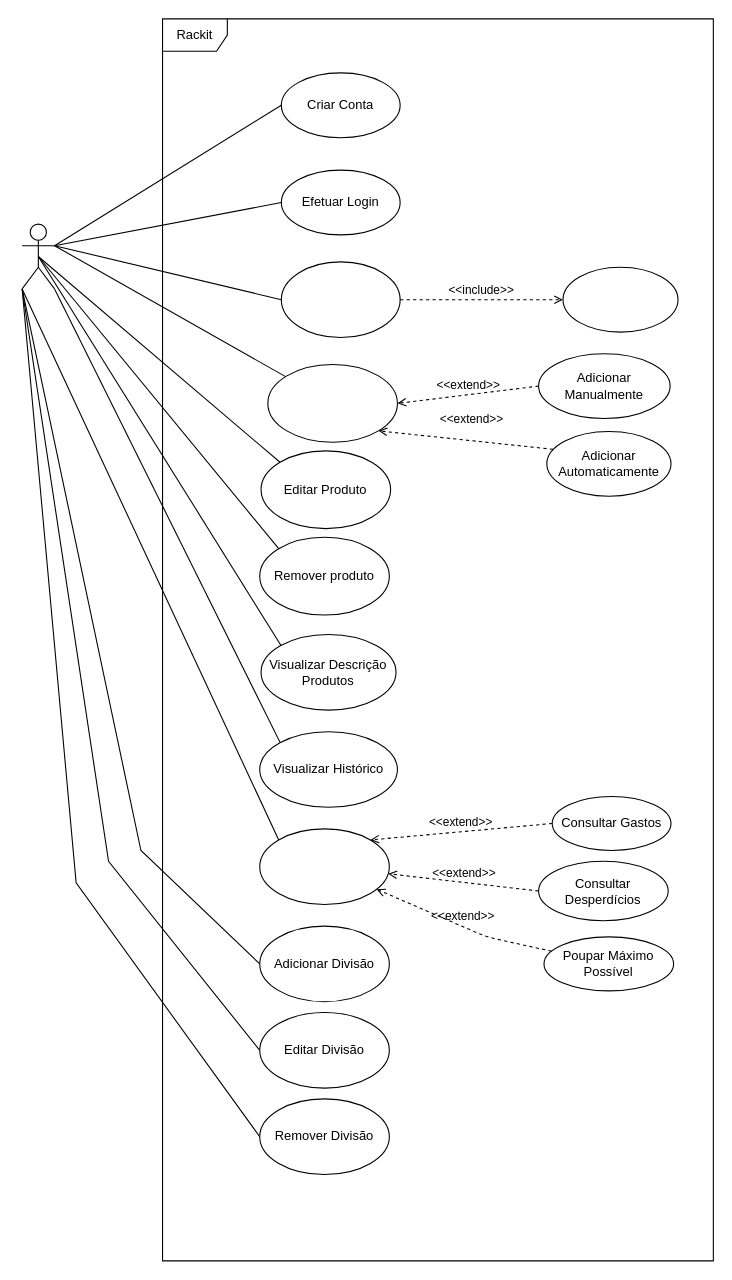
This 732x1280 diagram has some shape labels left out. The box of each missing label's shape, as (x1, y1, x2, y2) in pixels:
Adicionar produto: (267, 363, 397, 442)
Alterar Opções Conta: (280, 261, 400, 338)
Analisar Compras: (259, 828, 389, 905)
Atualizar Conta: (562, 266, 678, 332)
Cliente: (21, 223, 55, 289)
